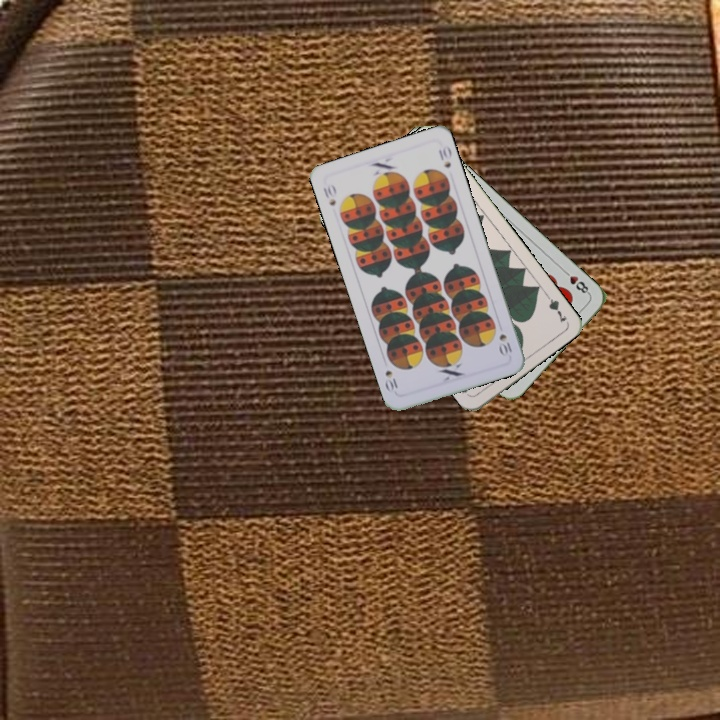G7: (540, 289, 570, 326)
H8: (559, 266, 592, 297)
S10: (319, 180, 339, 208), (495, 330, 514, 357)
